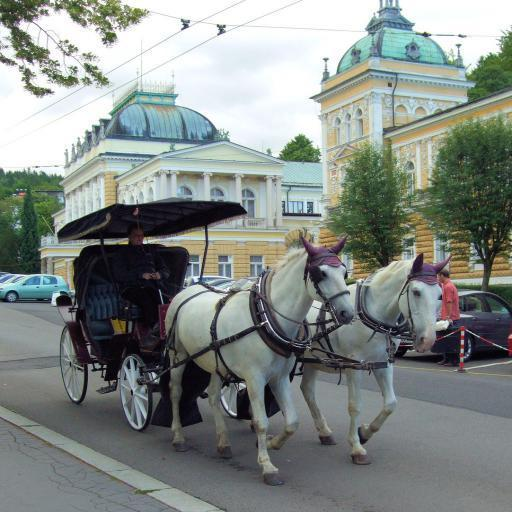horse: (170, 232, 358, 487), (247, 251, 454, 467)
